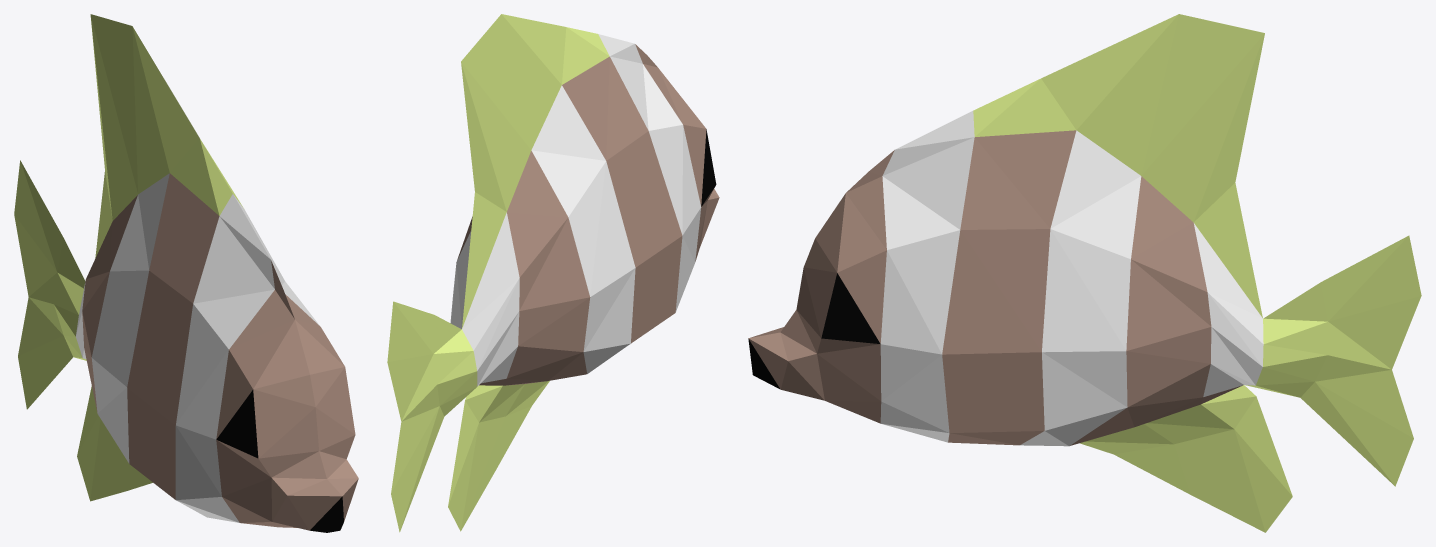
The model's file is fishA.gltf.
3 renders of one model, left to right at view 1: azimuth 30°, elevation 25°; view 2: azimuth 150°, elevation 25°; view 3: azimuth 270°, elevation 25°, orthographic. The views are drawn at different scales.
Parts seen in each view (by area): view 1: fish_colorMap1; view 2: fish_colorMap1; view 3: fish_colorMap1.
Part boxes in pixels (x1,y1,x2,y2): fish_colorMap1: [14, 14, 358, 532]; fish_colorMap1: [387, 14, 719, 532]; fish_colorMap1: [748, 14, 1421, 532].
Size of the model in its own units: 40.12 by 134 by 158.
